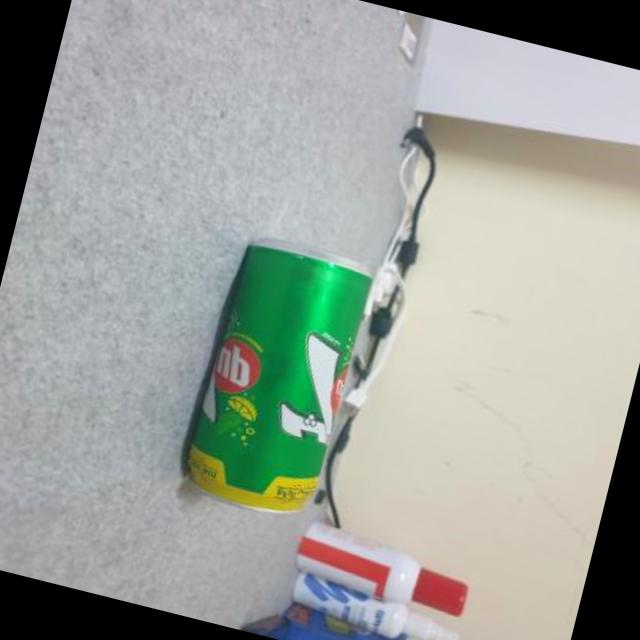metal: (188, 243, 371, 514)
